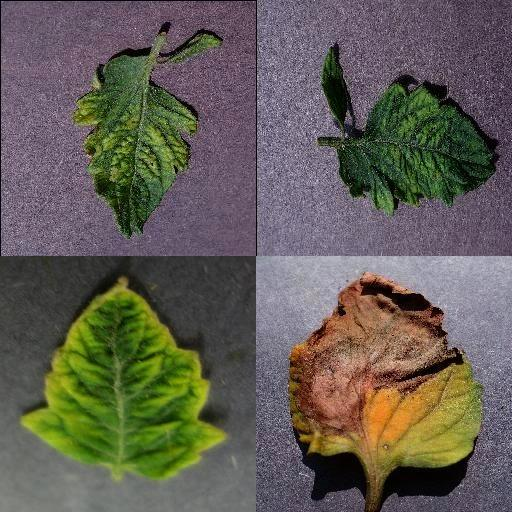Late Blight: (290, 271, 486, 469)
Mosaic Virus: (67, 54, 201, 240), (338, 79, 500, 217), (321, 43, 351, 127), (163, 29, 227, 65)
Yellow Leaf Curl Virus: (21, 273, 228, 481)
